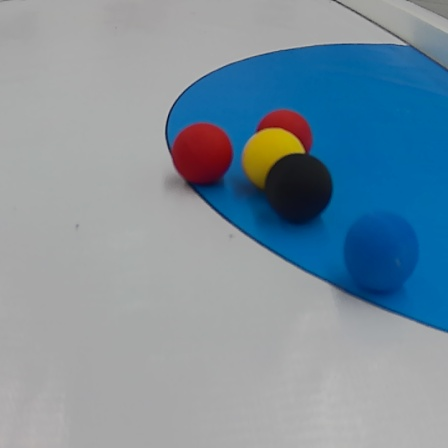black: (347, 207, 416, 294), (269, 153, 335, 229)
blue_base: (166, 34, 446, 339)
red: (166, 120, 233, 188), (260, 104, 314, 157)
yellow: (244, 129, 305, 183)
